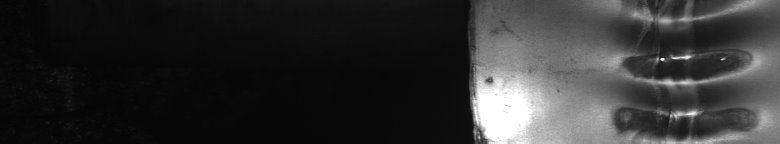ke: (612, 4, 750, 136)
